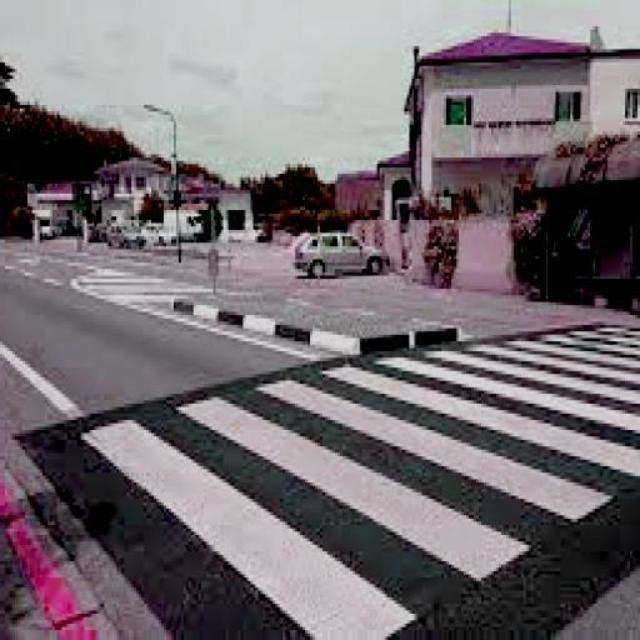sidewalk: (11, 324, 637, 637)
